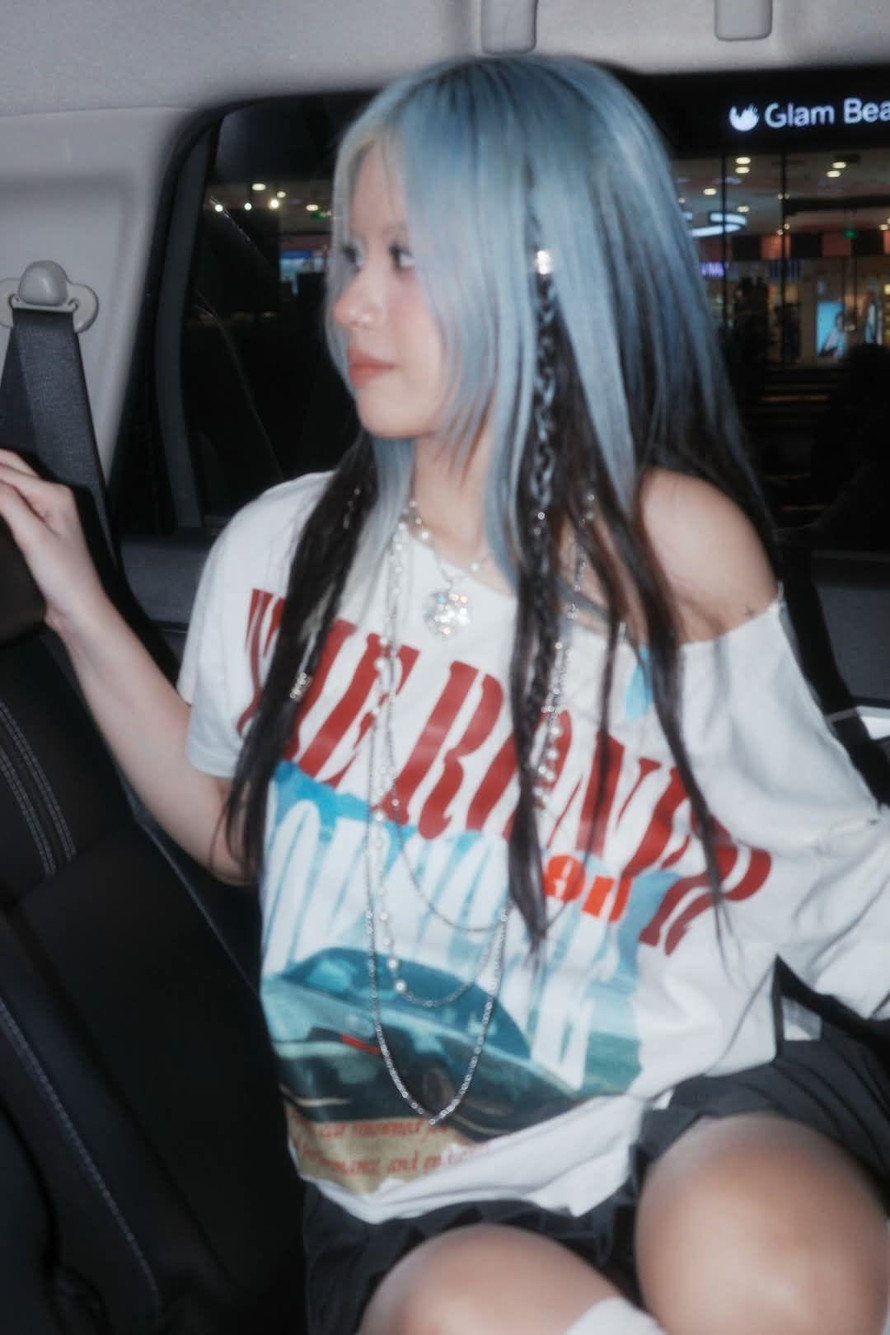non-dog: (0, 48, 890, 1335)
